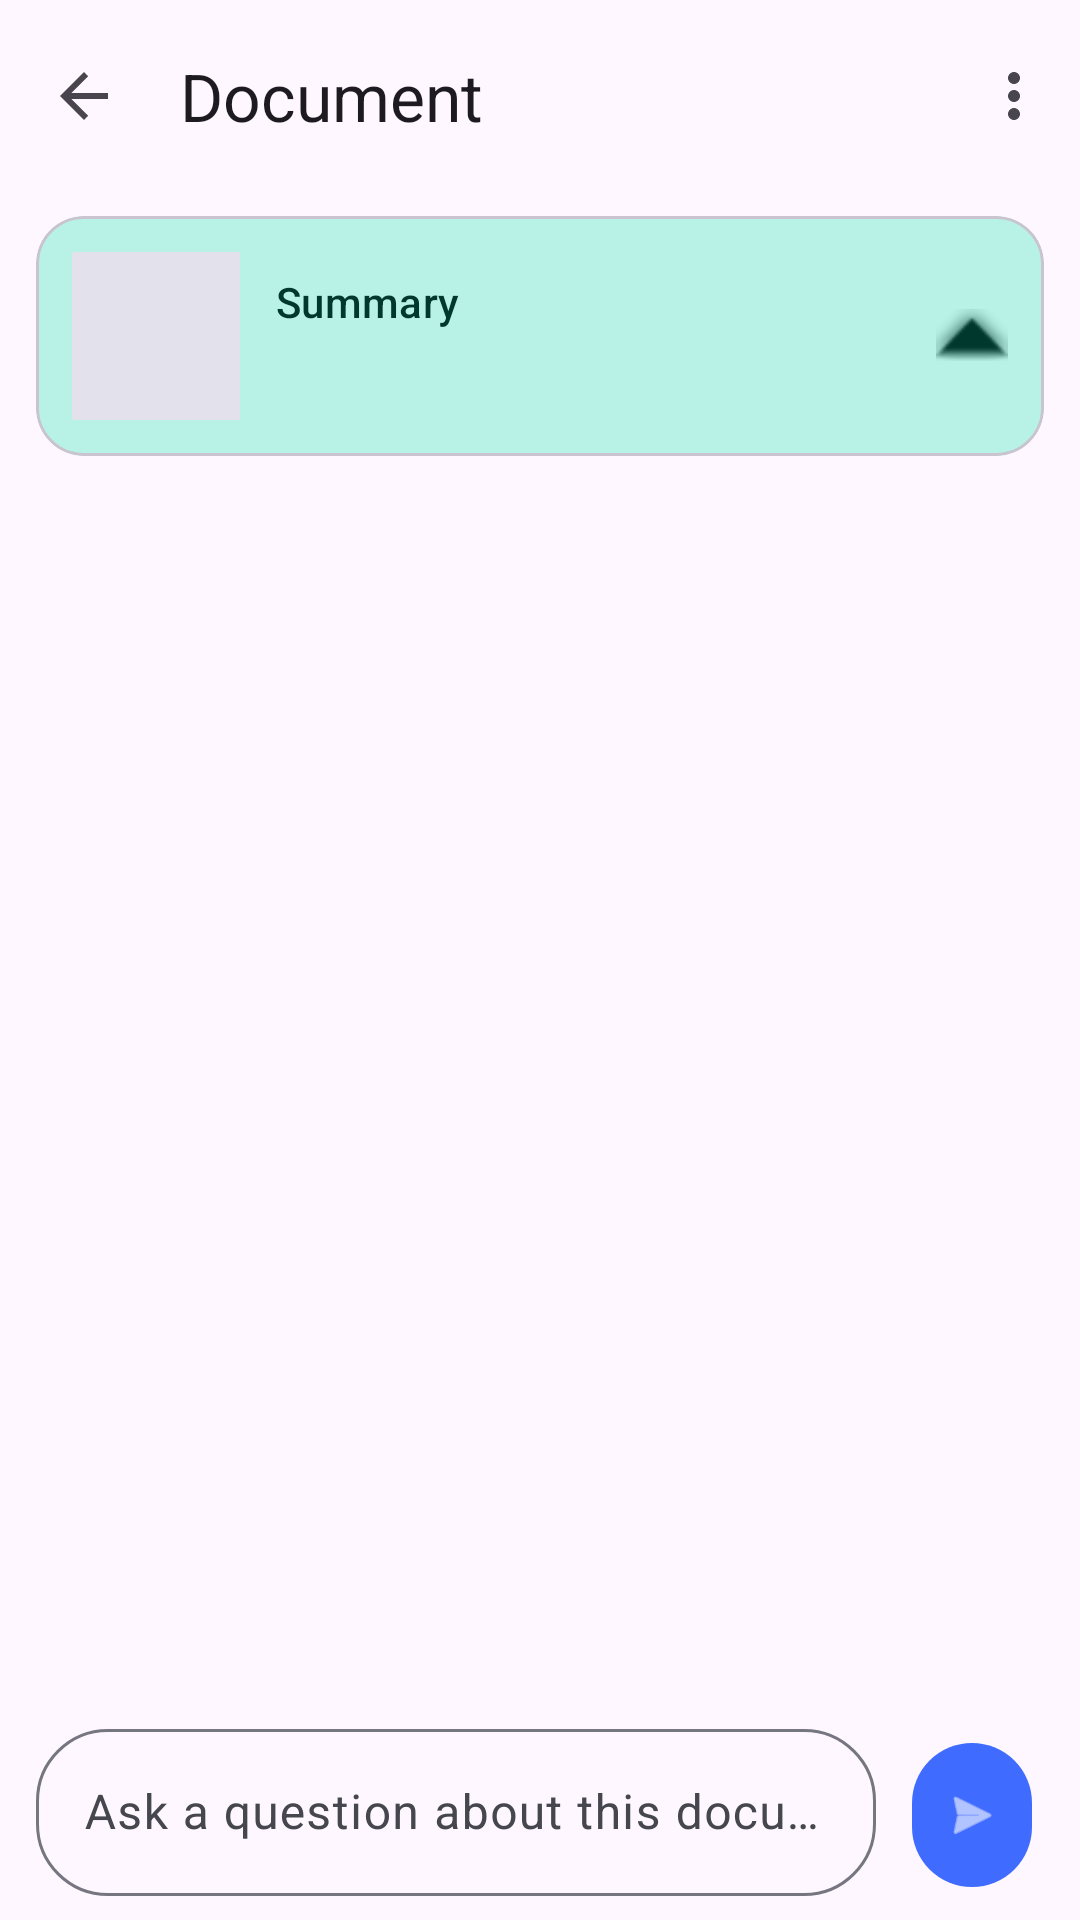

Screen size 1080w x 1920h. Icon name, then its box in pixels as BBox(x1, y1, x2, y2):
arrow up float: BBox(936, 313, 1008, 359)
Send: BBox(912, 1743, 1032, 1887)
